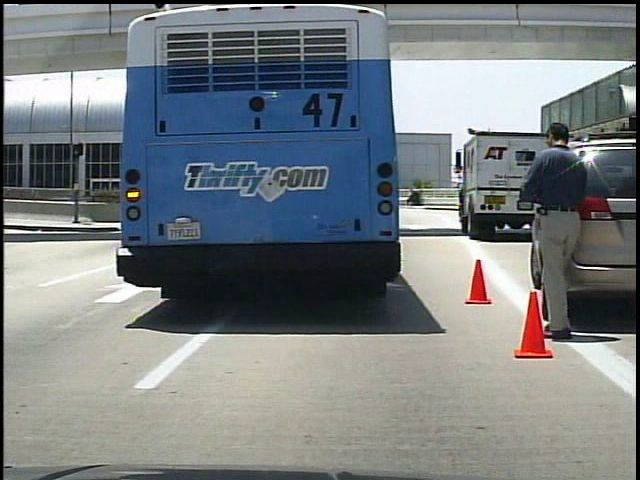person: (514, 116, 608, 345)
